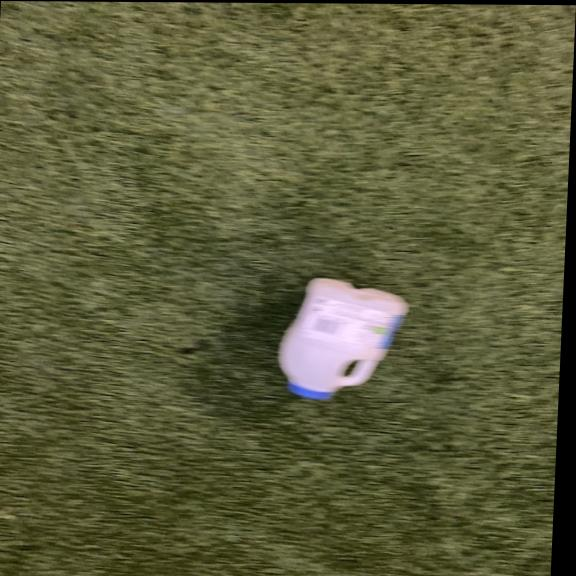Plastik: (270, 271, 411, 404)
